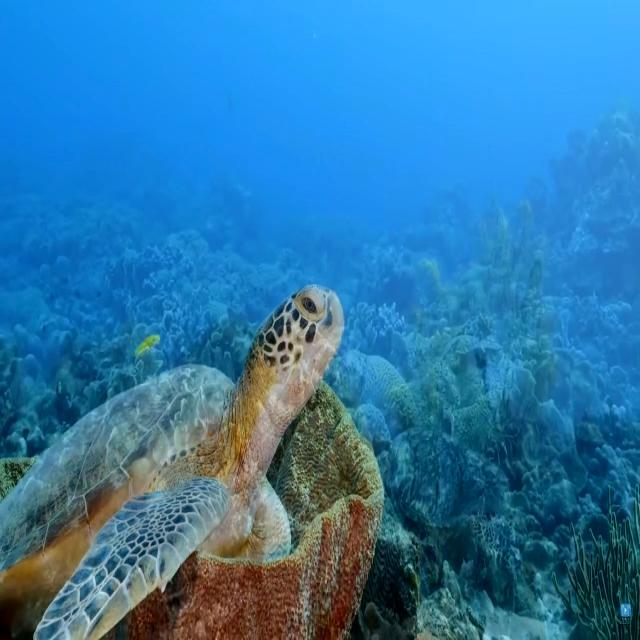Sea turtle: (0, 279, 346, 640)
